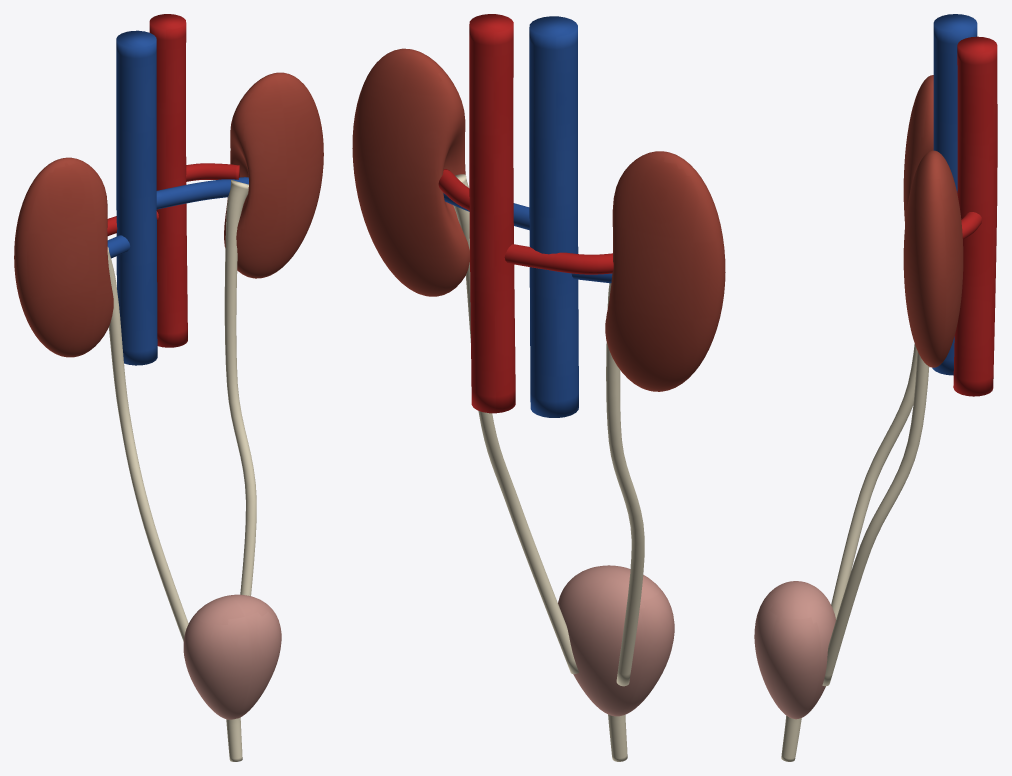
The model's file is urinary-system-with-kidneys.glb.
3 views of the same model, side by side, from view 1: azimuth 30°, elevation 25°; view 2: azimuth 150°, elevation 25°; view 3: azimuth 270°, elevation 25° (orthographic). The views are drawn at different scales.
Parts seen in each view (by area): view 1: Right kidney 120x60x30mm medial hilum, Left kidney 120x60x30mm medial hilum, Inferior vena cava context, Abdominal aorta context, Urinary bladder tapering into bladder neck, Left renal pelvis and ureter, Right renal pelvis and ureter, Left renal vein, Left renal artery, Short neutral urethral outlet; view 2: Right kidney 120x60x30mm medial hilum, Left kidney 120x60x30mm medial hilum, Inferior vena cava context, Abdominal aorta context, Urinary bladder tapering into bladder neck, Right renal pelvis and ureter, Left renal pelvis and ureter, Right renal artery, Short neutral urethral outlet, Left renal artery; view 3: Abdominal aorta context, Left kidney 120x60x30mm medial hilum, Urinary bladder tapering into bladder neck, Inferior vena cava context, Left renal pelvis and ureter, Right renal pelvis and ureter, Right kidney 120x60x30mm medial hilum, Short neutral urethral outlet.
Part boxes in pixels (<box>): Right kidney 120x60x30mm medial hilum: <box>14,157,113,357</box>; Left kidney 120x60x30mm medial hilum: <box>224,72,323,278</box>; Inferior vena cava context: <box>116,30,157,365</box>; Abdominal aorta context: <box>149,14,187,347</box>; Urinary bladder tapering into bladder neck: <box>183,594,281,719</box>; Left renal pelvis and ureter: <box>224,180,256,595</box>; Right renal pelvis and ureter: <box>107,247,188,641</box>; Left renal vein: <box>156,177,248,209</box>; Left renal artery: <box>186,163,239,181</box>; Short neutral urethral outlet: <box>226,717,242,761</box>; Right kidney 120x60x30mm medial hilum: <box>605,151,725,391</box>; Left kidney 120x60x30mm medial hilum: <box>352,48,469,296</box>; Inferior vena cava context: <box>529,16,578,417</box>; Abdominal aorta context: <box>469,14,515,413</box>; Urinary bladder tapering into bladder neck: <box>558,565,674,716</box>; Right renal pelvis and ureter: <box>606,283,644,686</box>; Left renal pelvis and ureter: <box>453,174,579,674</box>; Right renal artery: <box>504,244,613,274</box>; Short neutral urethral outlet: <box>608,714,627,761</box>; Left renal artery: <box>438,169,469,210</box>; Abdominal aorta context: <box>953,36,997,396</box>; Left kidney 120x60x30mm medial hilum: <box>903,150,963,367</box>; Urinary bladder tapering into bladder neck: <box>754,581,835,719</box>; Inferior vena cava context: <box>932,14,977,375</box>; Left renal pelvis and ureter: <box>822,351,929,686</box>; Right renal pelvis and ureter: <box>831,344,917,619</box>; Right kidney 120x60x30mm medial hilum: <box>903,75,933,224</box>; Short neutral urethral outlet: <box>781,715,801,761</box>.
Bounding box in the file's own units: 0.192 × 0.4015 × 0.1221.
5 materials, 5 textured.
